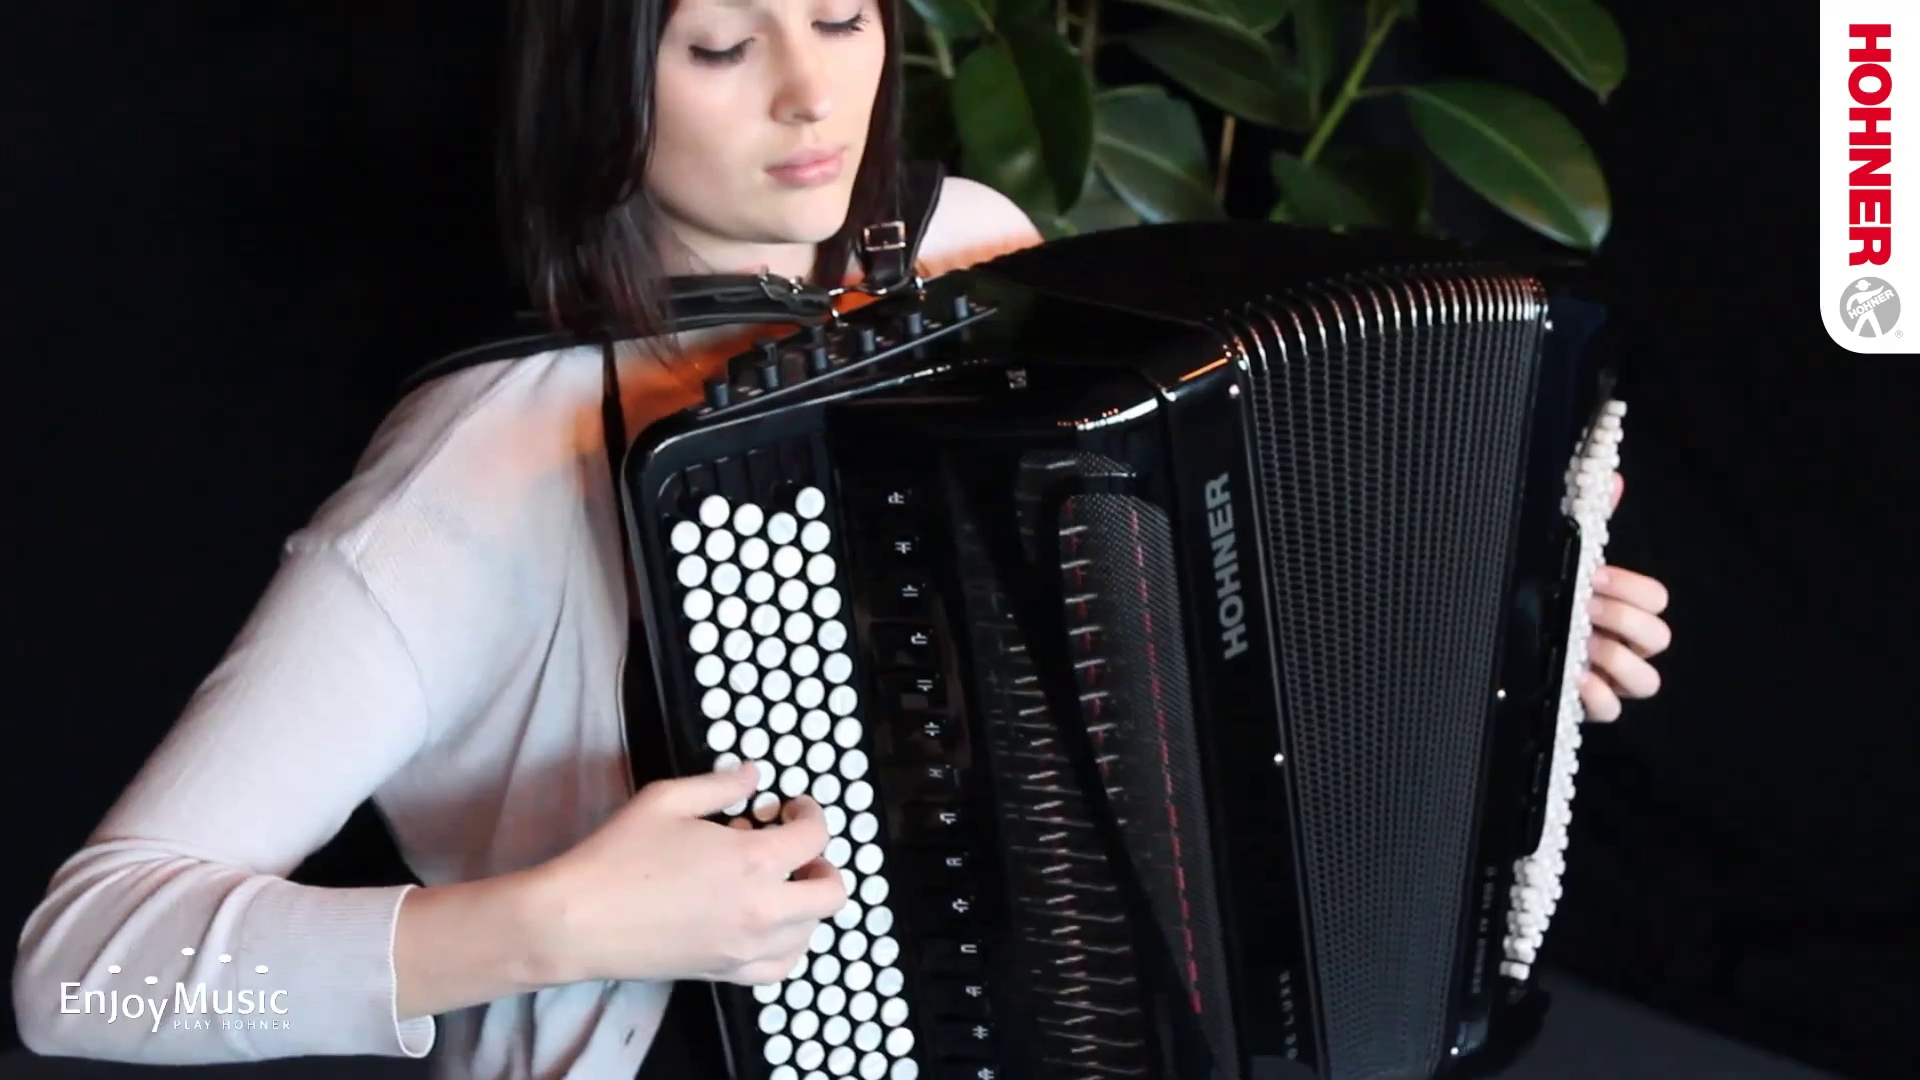person: (9, 1, 1673, 1077)
